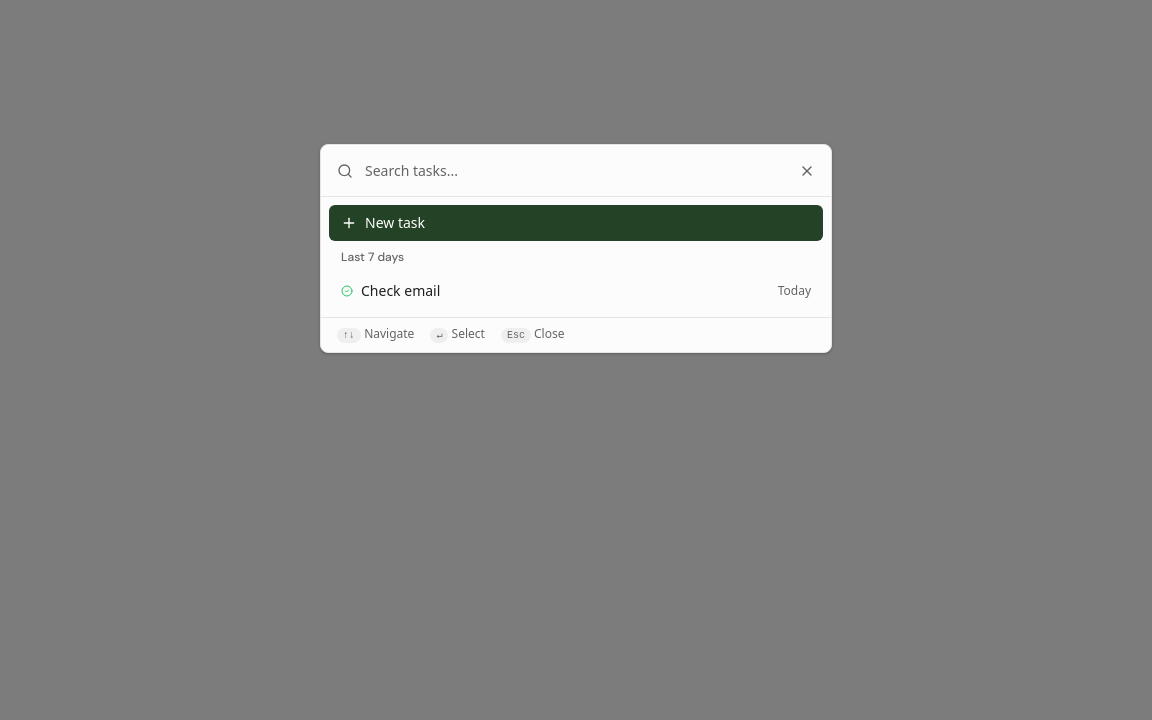
Test: TaskLauncher › task filtering › should show "No tasks found" when search has no results
This screenshot has width=1152, height=720.
Type "nonexistent" into the field with placeholder "Search tasks..." at x=576, y=170, box [365,157,787,184]
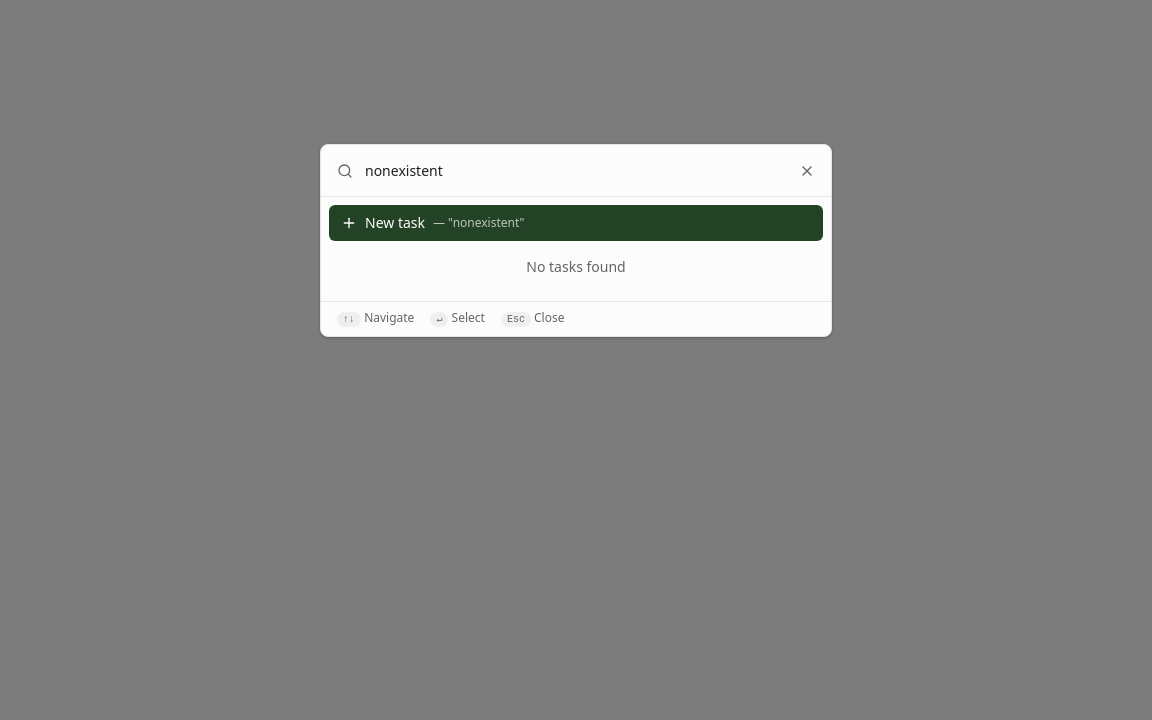
Expected: the text "No tasks found" is shown, [526,257,626,276]
